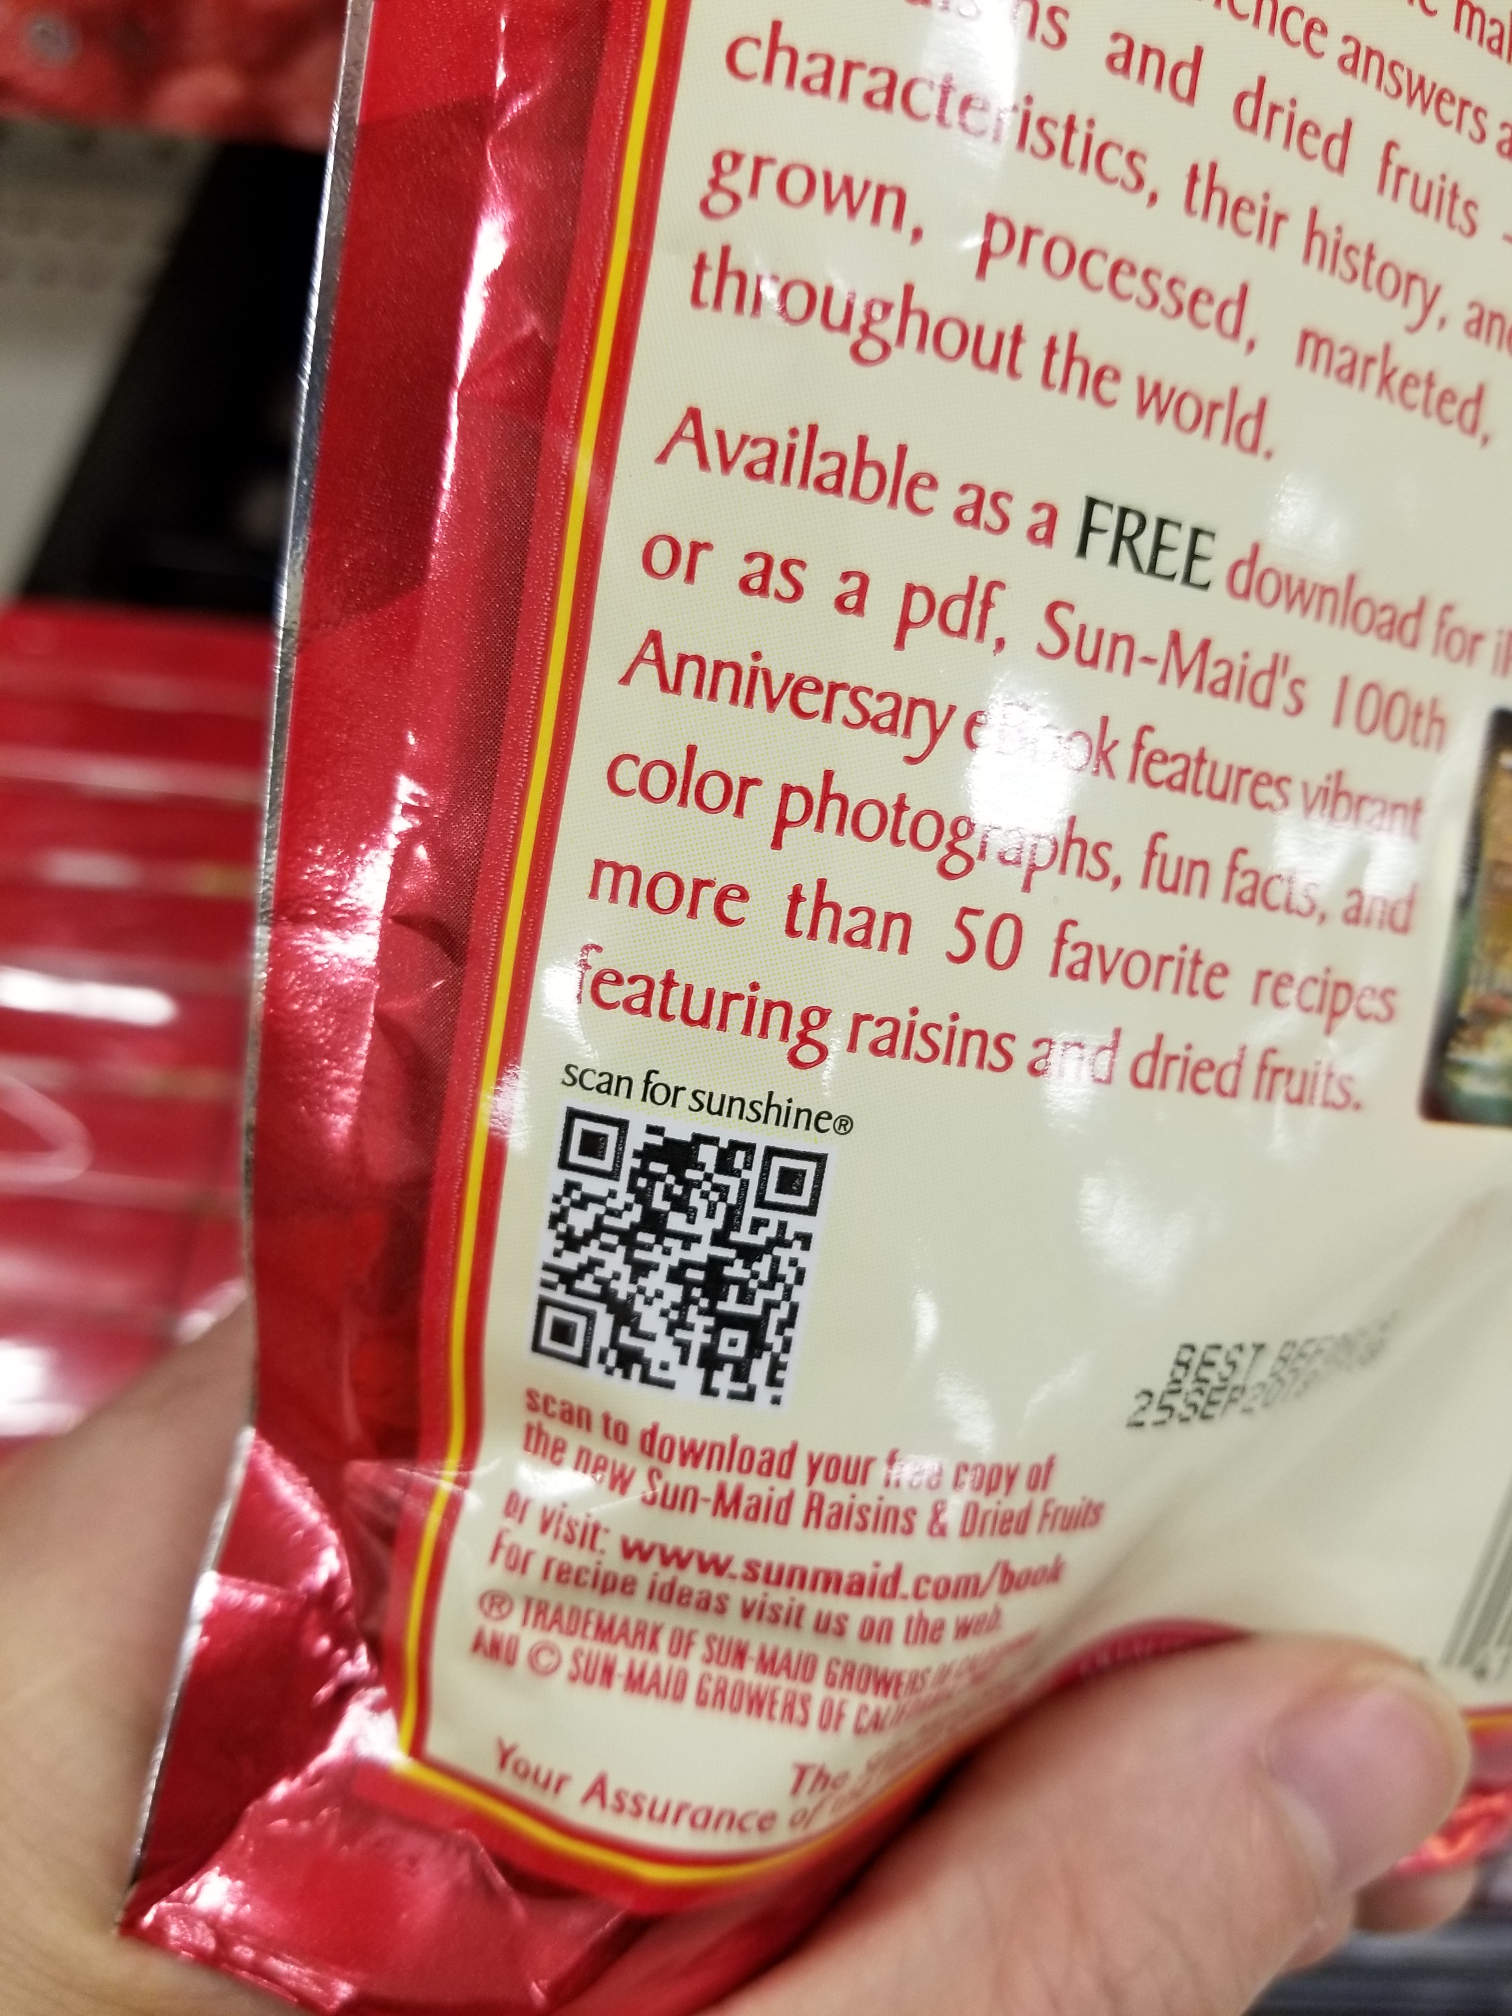QR_CODE: (496, 1045, 866, 1460)
